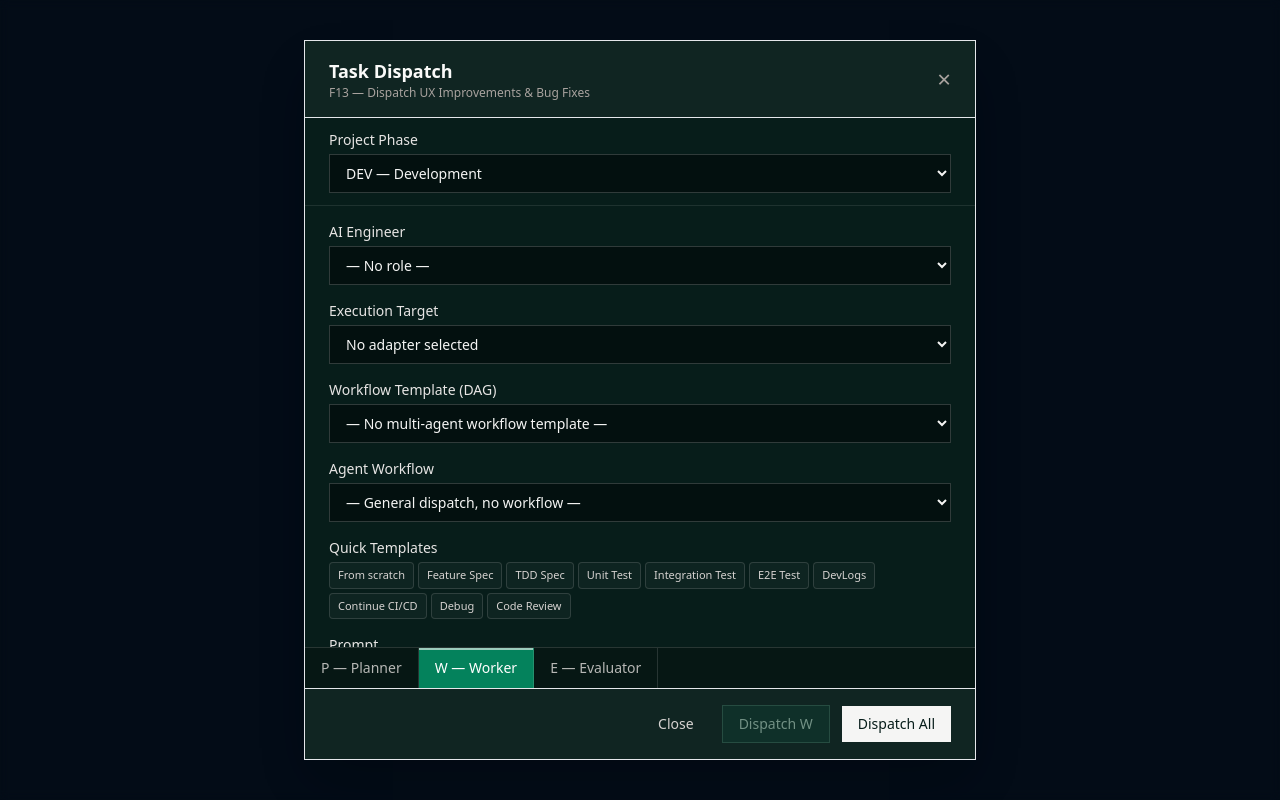
TaskDispatchModal [error states] › shows error banner on adapter build failure
The width and height of the screenshot is (1280, 800).
Click dispatch
Select "Claude Code" in the dropdown below "Execution Target" at (640, 344), box [329,325,951,364]
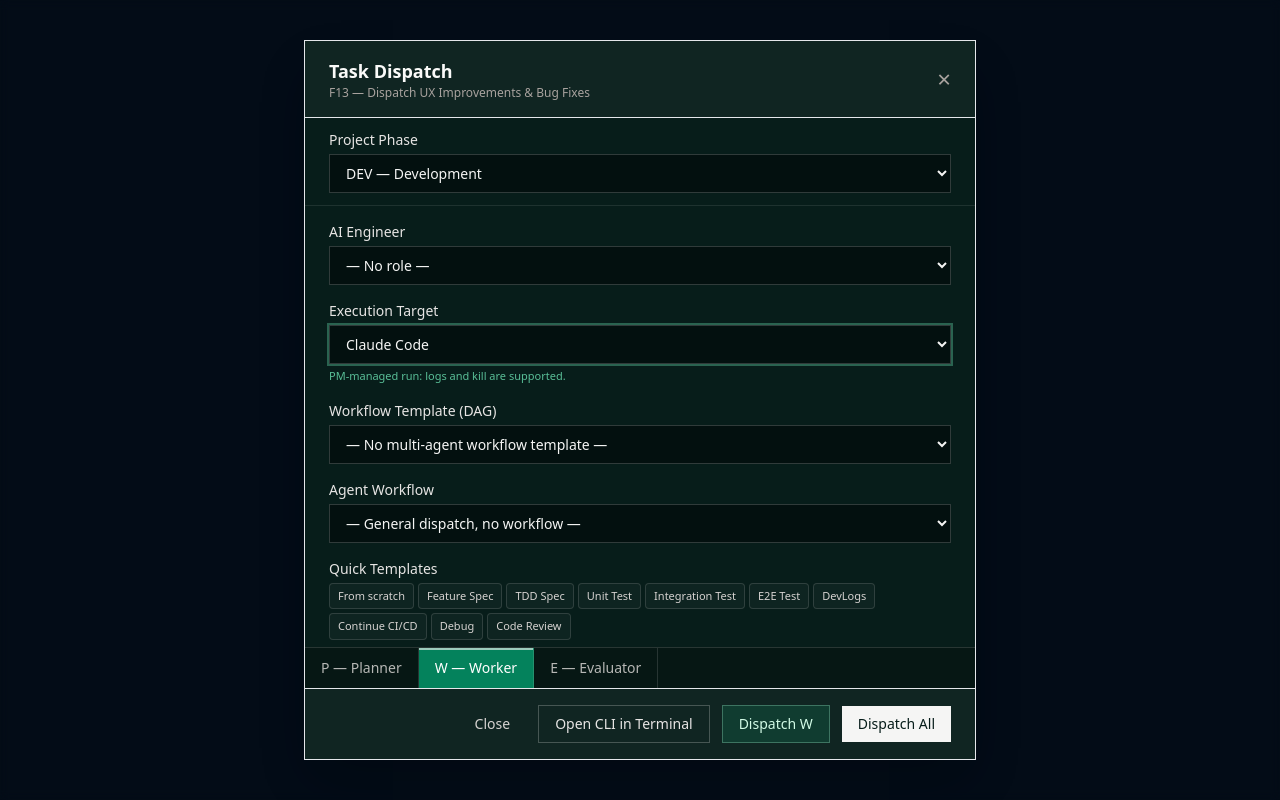
Click the button "Dispatch W" at (776, 724), box [722,705,830,743]
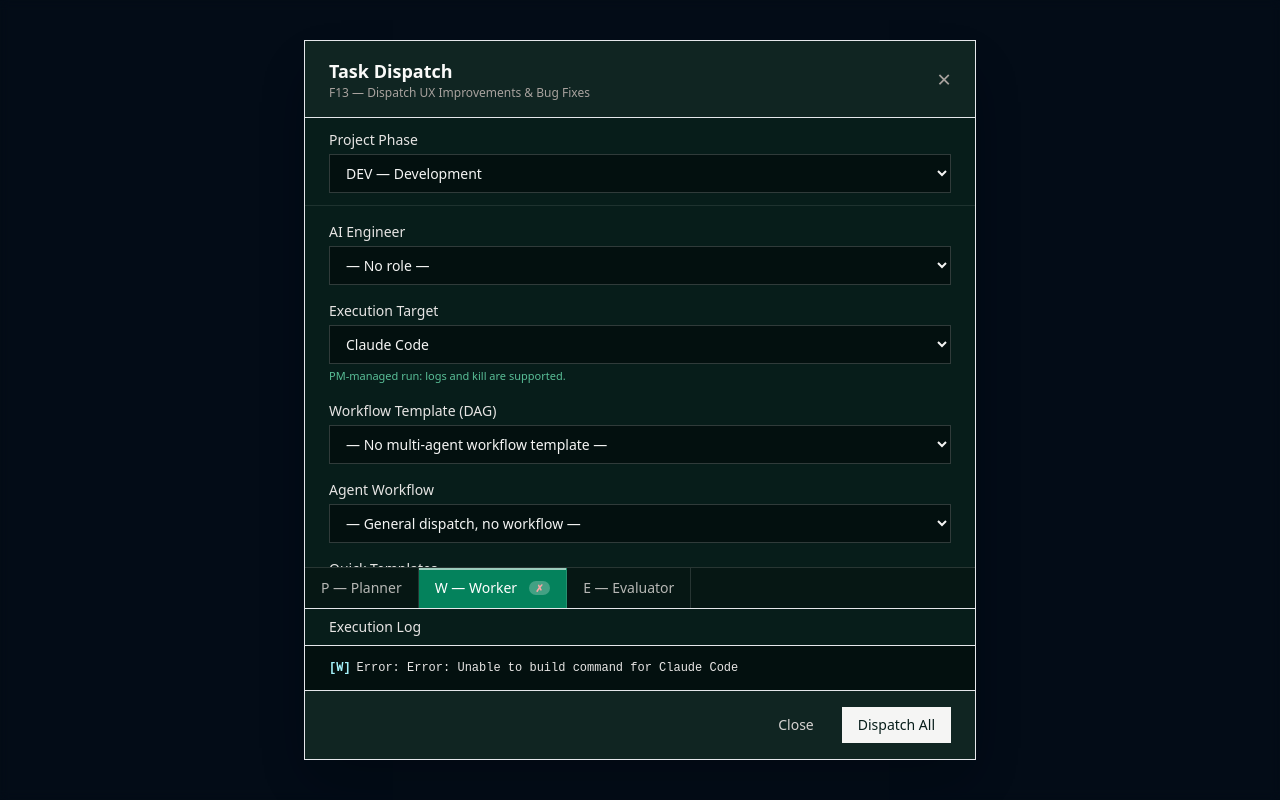
Result: the text "Error: Error: Unable to build command for Claude Code" is shown at [357,661,738,675]
